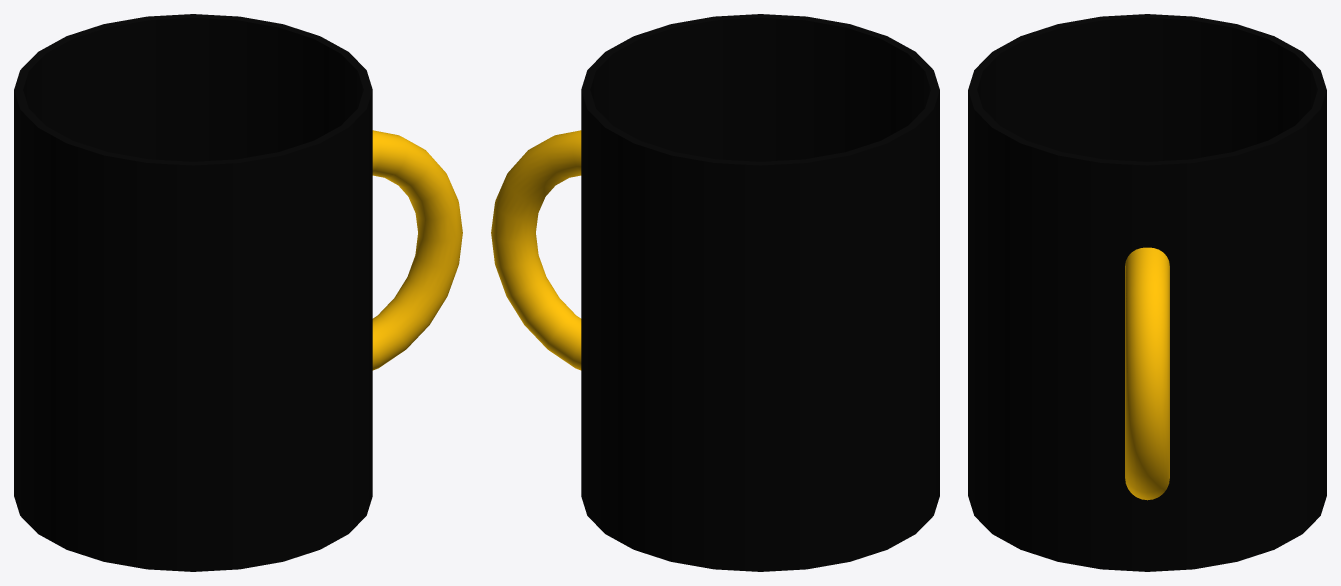
Rendered from mug_19_orgin_gt_1.dae.
The picture shows the model from 3 angles, left to right: view 1: azimuth 30°, elevation 25°; view 2: azimuth 150°, elevation 25°; view 3: azimuth 270°, elevation 25°; orthographic projection.
Parts seen in each view (by area): view 1: SketchUp (×2), group_0; view 2: SketchUp (×2), group_0; view 3: SketchUp (×2), group_0.
Boxes of the visible parts, left/top/right/bottom form: SketchUp (×2): left=14, top=14, right=372, bottom=571; group_0: left=372, top=130, right=462, bottom=370; SketchUp (×2): left=581, top=14, right=939, bottom=571; group_0: left=491, top=130, right=581, bottom=370; SketchUp (×2): left=968, top=14, right=1326, bottom=571; group_0: left=1125, top=247, right=1169, bottom=500.
Size of the model in its own units: 4.28 by 3.15 by 3.94.
